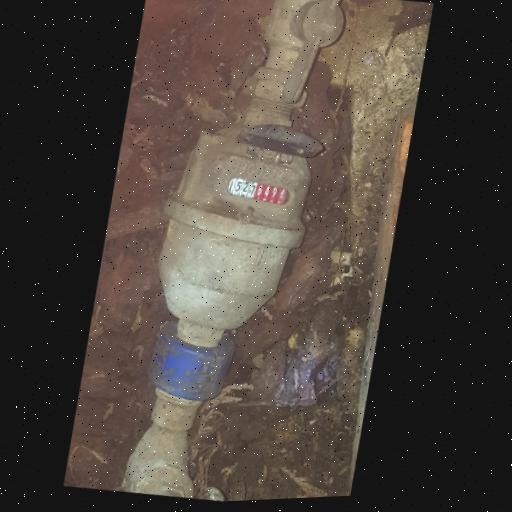1: (225, 176, 237, 195)
2: (241, 178, 251, 198)
4: (276, 187, 288, 205), (262, 184, 273, 202)
5: (233, 177, 243, 197)
6: (254, 181, 265, 201)
7: (247, 180, 258, 199)
9: (269, 185, 279, 204)
border_water_meter_number: (223, 173, 293, 211)
